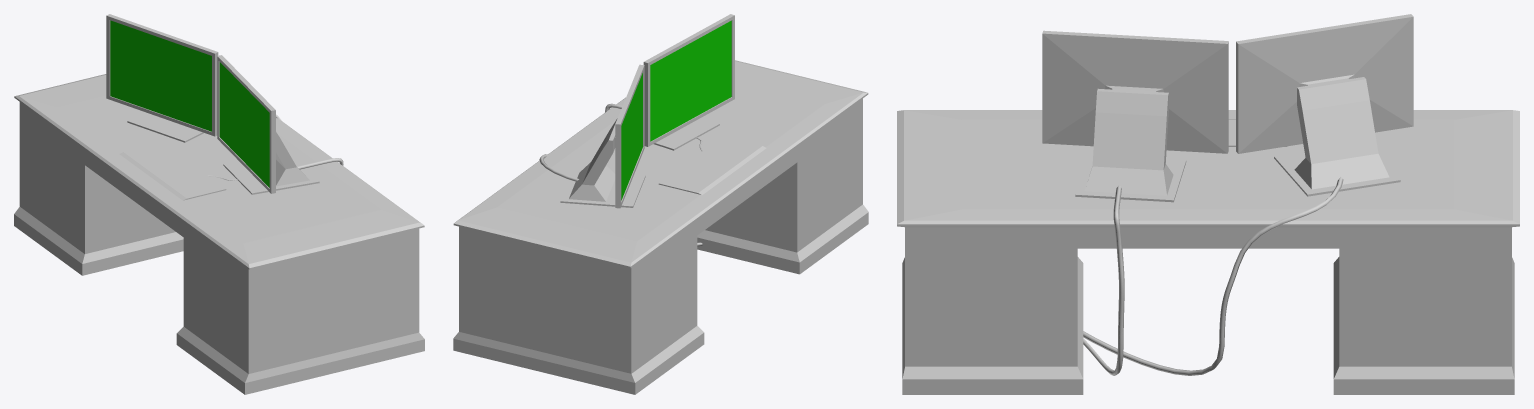
The model's file is desk.fbx.
The picture shows the model from 3 angles, left to right: view 1: azimuth 30°, elevation 25°; view 2: azimuth 150°, elevation 25°; view 3: azimuth 270°, elevation 25°; orthographic projection. The views are drawn at different scales.
Parts seen in each view (by area): view 1: Cube, Cube.002, Cube.004, Cube.005; view 2: Cube, Cube.004, Cube.002, Cube.005; view 3: Cube, Cube.004, Cube.002, BezierCurve.001, BezierCurve.
Boxes of the visible parts, x1,y1,x2,y2 form: Cube: (14, 74, 424, 394); Cube.002: (106, 14, 218, 142); Cube.004: (217, 55, 319, 194); Cube.005: (119, 142, 226, 200); Cube: (453, 60, 868, 394); Cube.004: (643, 14, 734, 150); Cube.002: (560, 64, 645, 208); Cube.005: (658, 136, 766, 194); Cube: (897, 110, 1519, 394); Cube.004: (1042, 30, 1228, 202); Cube.002: (1236, 14, 1413, 196); BezierCurve.001: (1083, 177, 1343, 375); BezierCurve: (1083, 185, 1124, 375).
Bounding box in the file's own units: 283 × 335 × 632.
